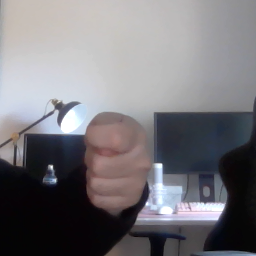T: (81, 110, 156, 215)
